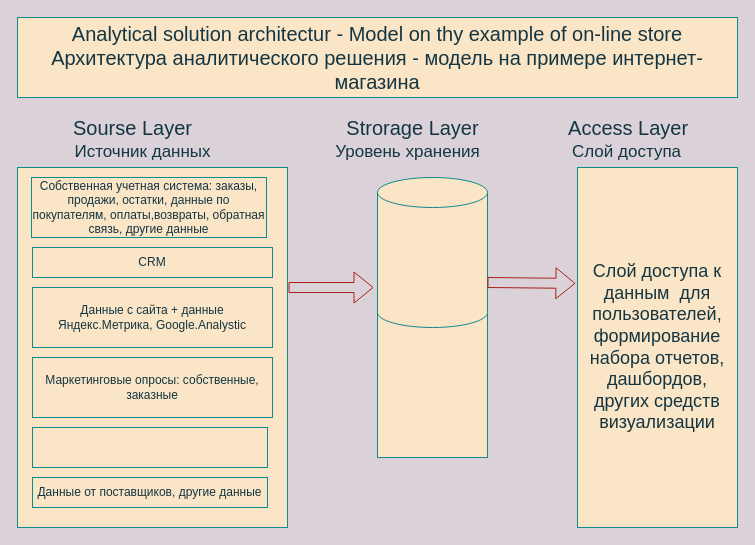
Image size: 755x545. Some labels were removed from this diagram. The centre of each missing label's shape, as x and y in pixels:
Организация храния данных: point 432,252
сортировка, обработка данных, доступ: point 432,377
Экономические данные государства: point 150,447
